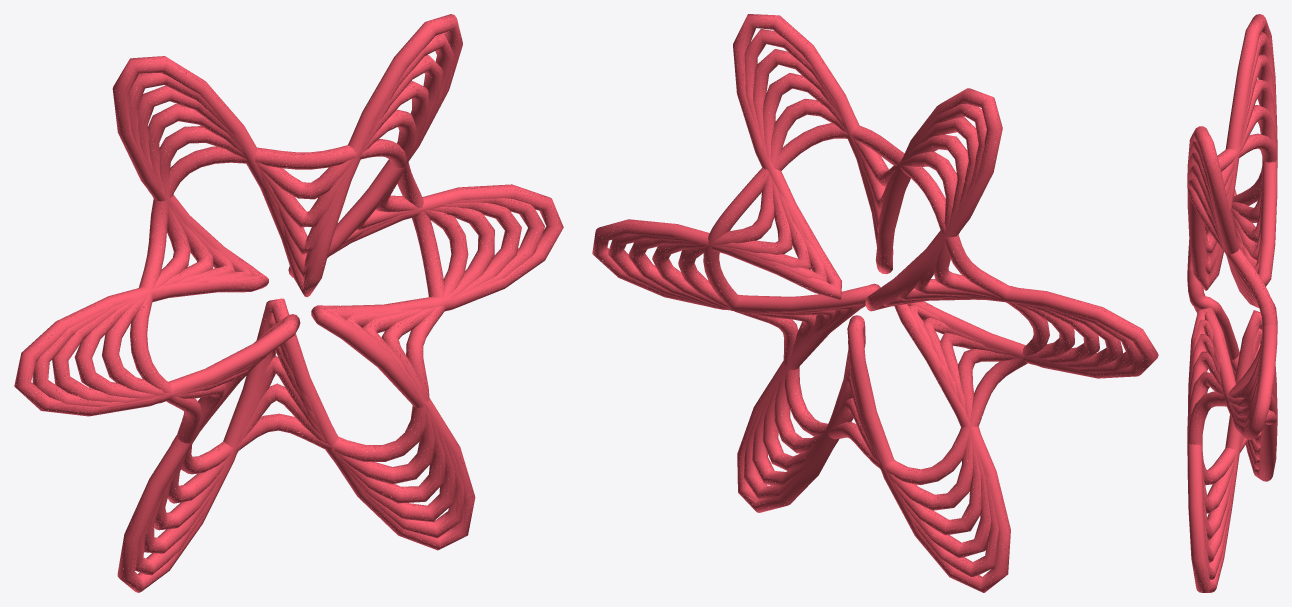
Rendered from flor.glb.
3 views of the same model, side by side, from view 1: azimuth 30°, elevation 25°; view 2: azimuth 150°, elevation 25°; view 3: azimuth 270°, elevation 25° (orthographic). The views are drawn at different scales.
Visible parts, largest first — view 1: MyParametricCurve; view 2: MyParametricCurve; view 3: MyParametricCurve.
Part boxes in pixels (x1,y1,x2,y2): MyParametricCurve: (14, 14, 563, 592); MyParametricCurve: (592, 14, 1158, 592); MyParametricCurve: (1187, 14, 1277, 592).
Bounding box in the file's own units: 3.81 × 3.38 × 0.5997.
